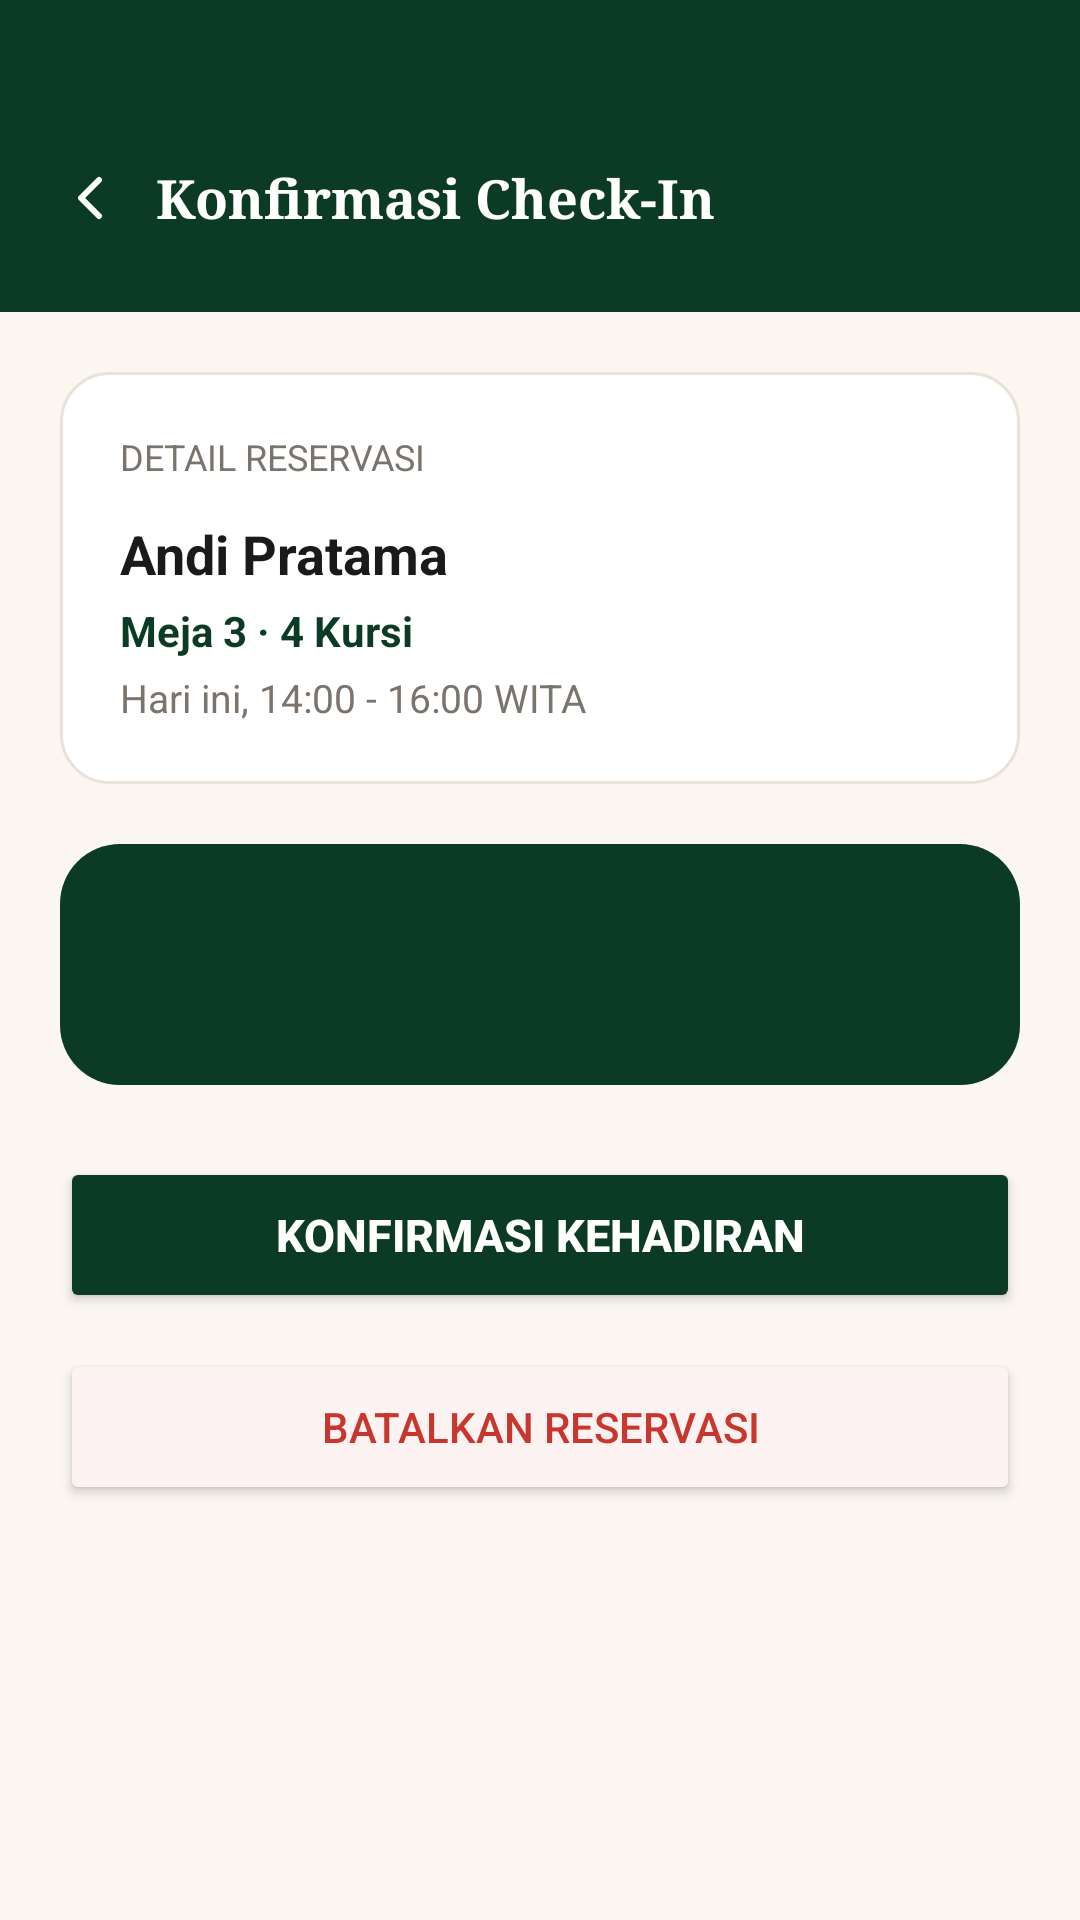

Icon click points for this 1080×1920 phone screenshot, format [x,y]:
back: [90,198]
